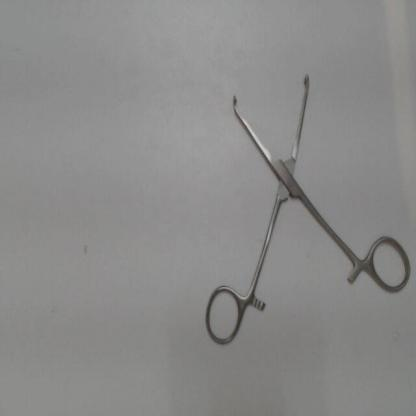Allis Tissue Forceps: (198, 61, 415, 352)
